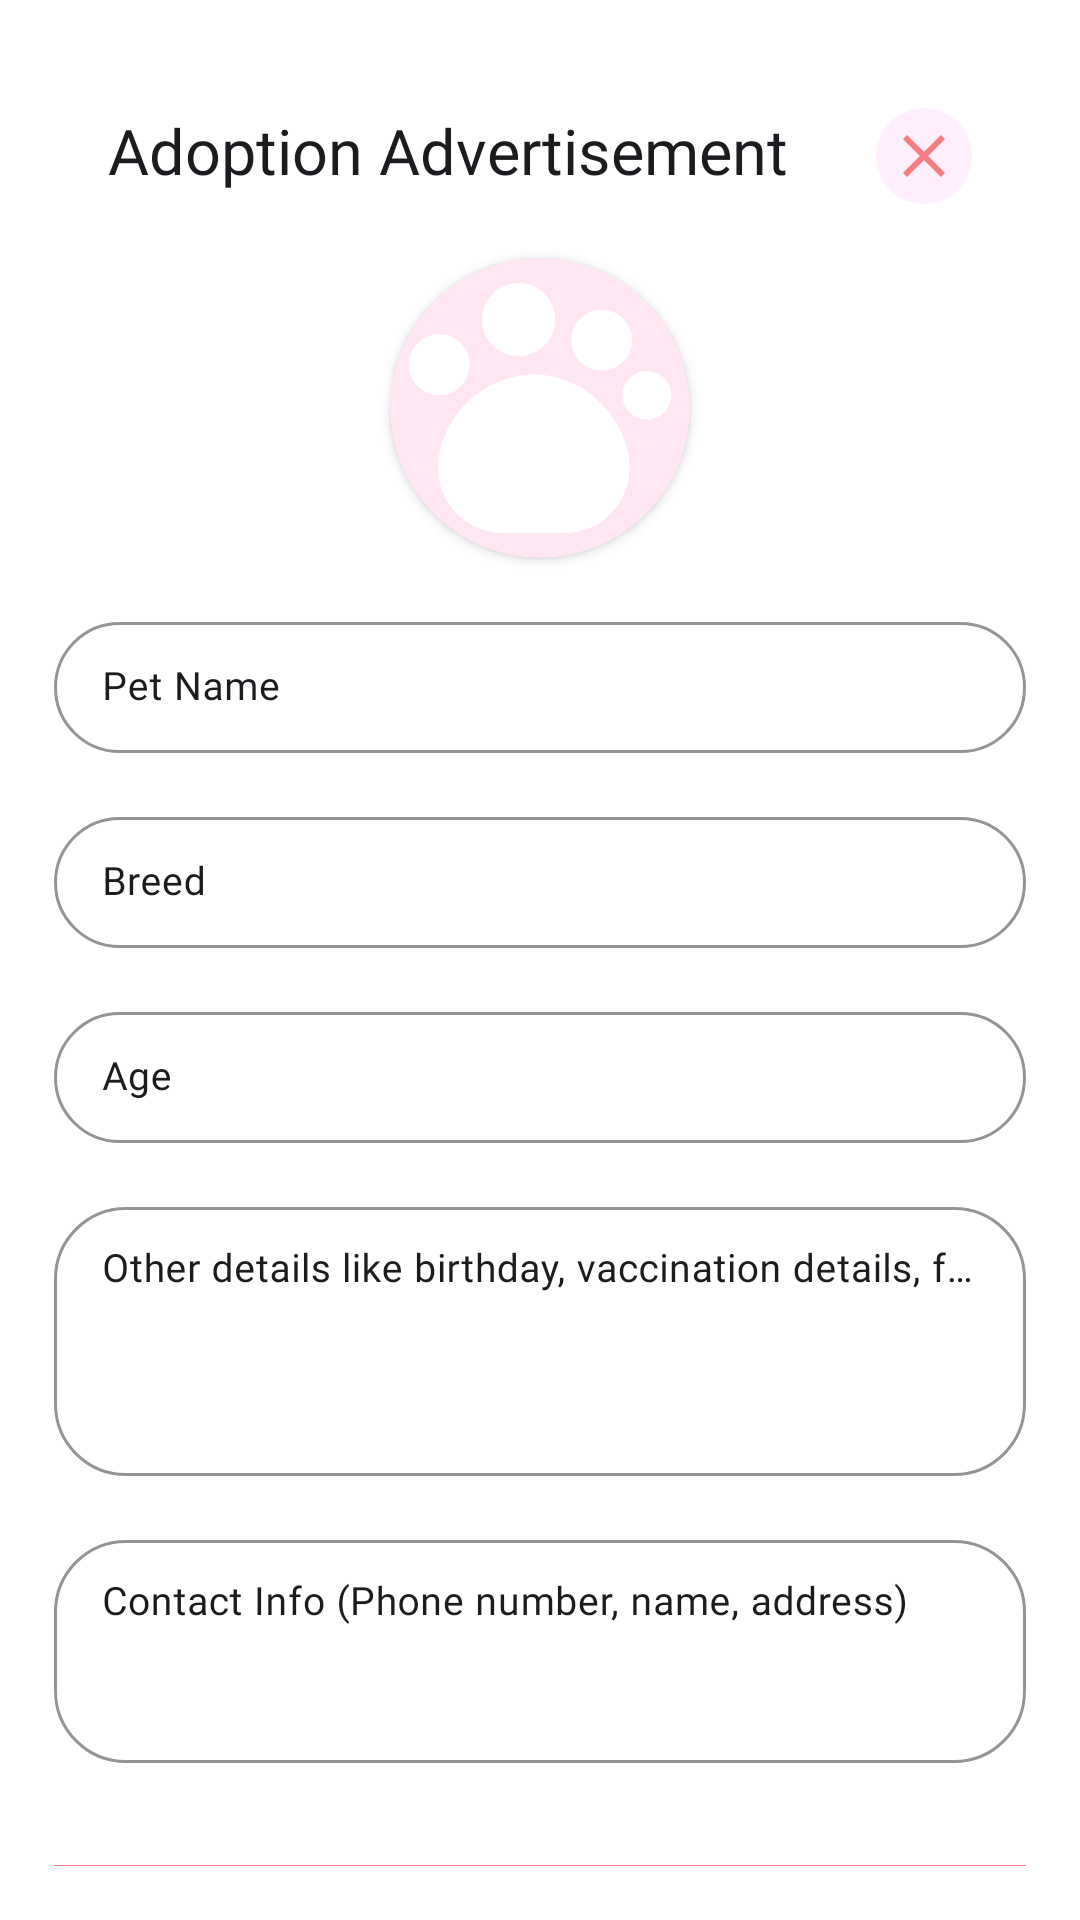

Named icons in this screenshot (1080px×1920px) and their centers, [x,y]:
close: [924,156]
